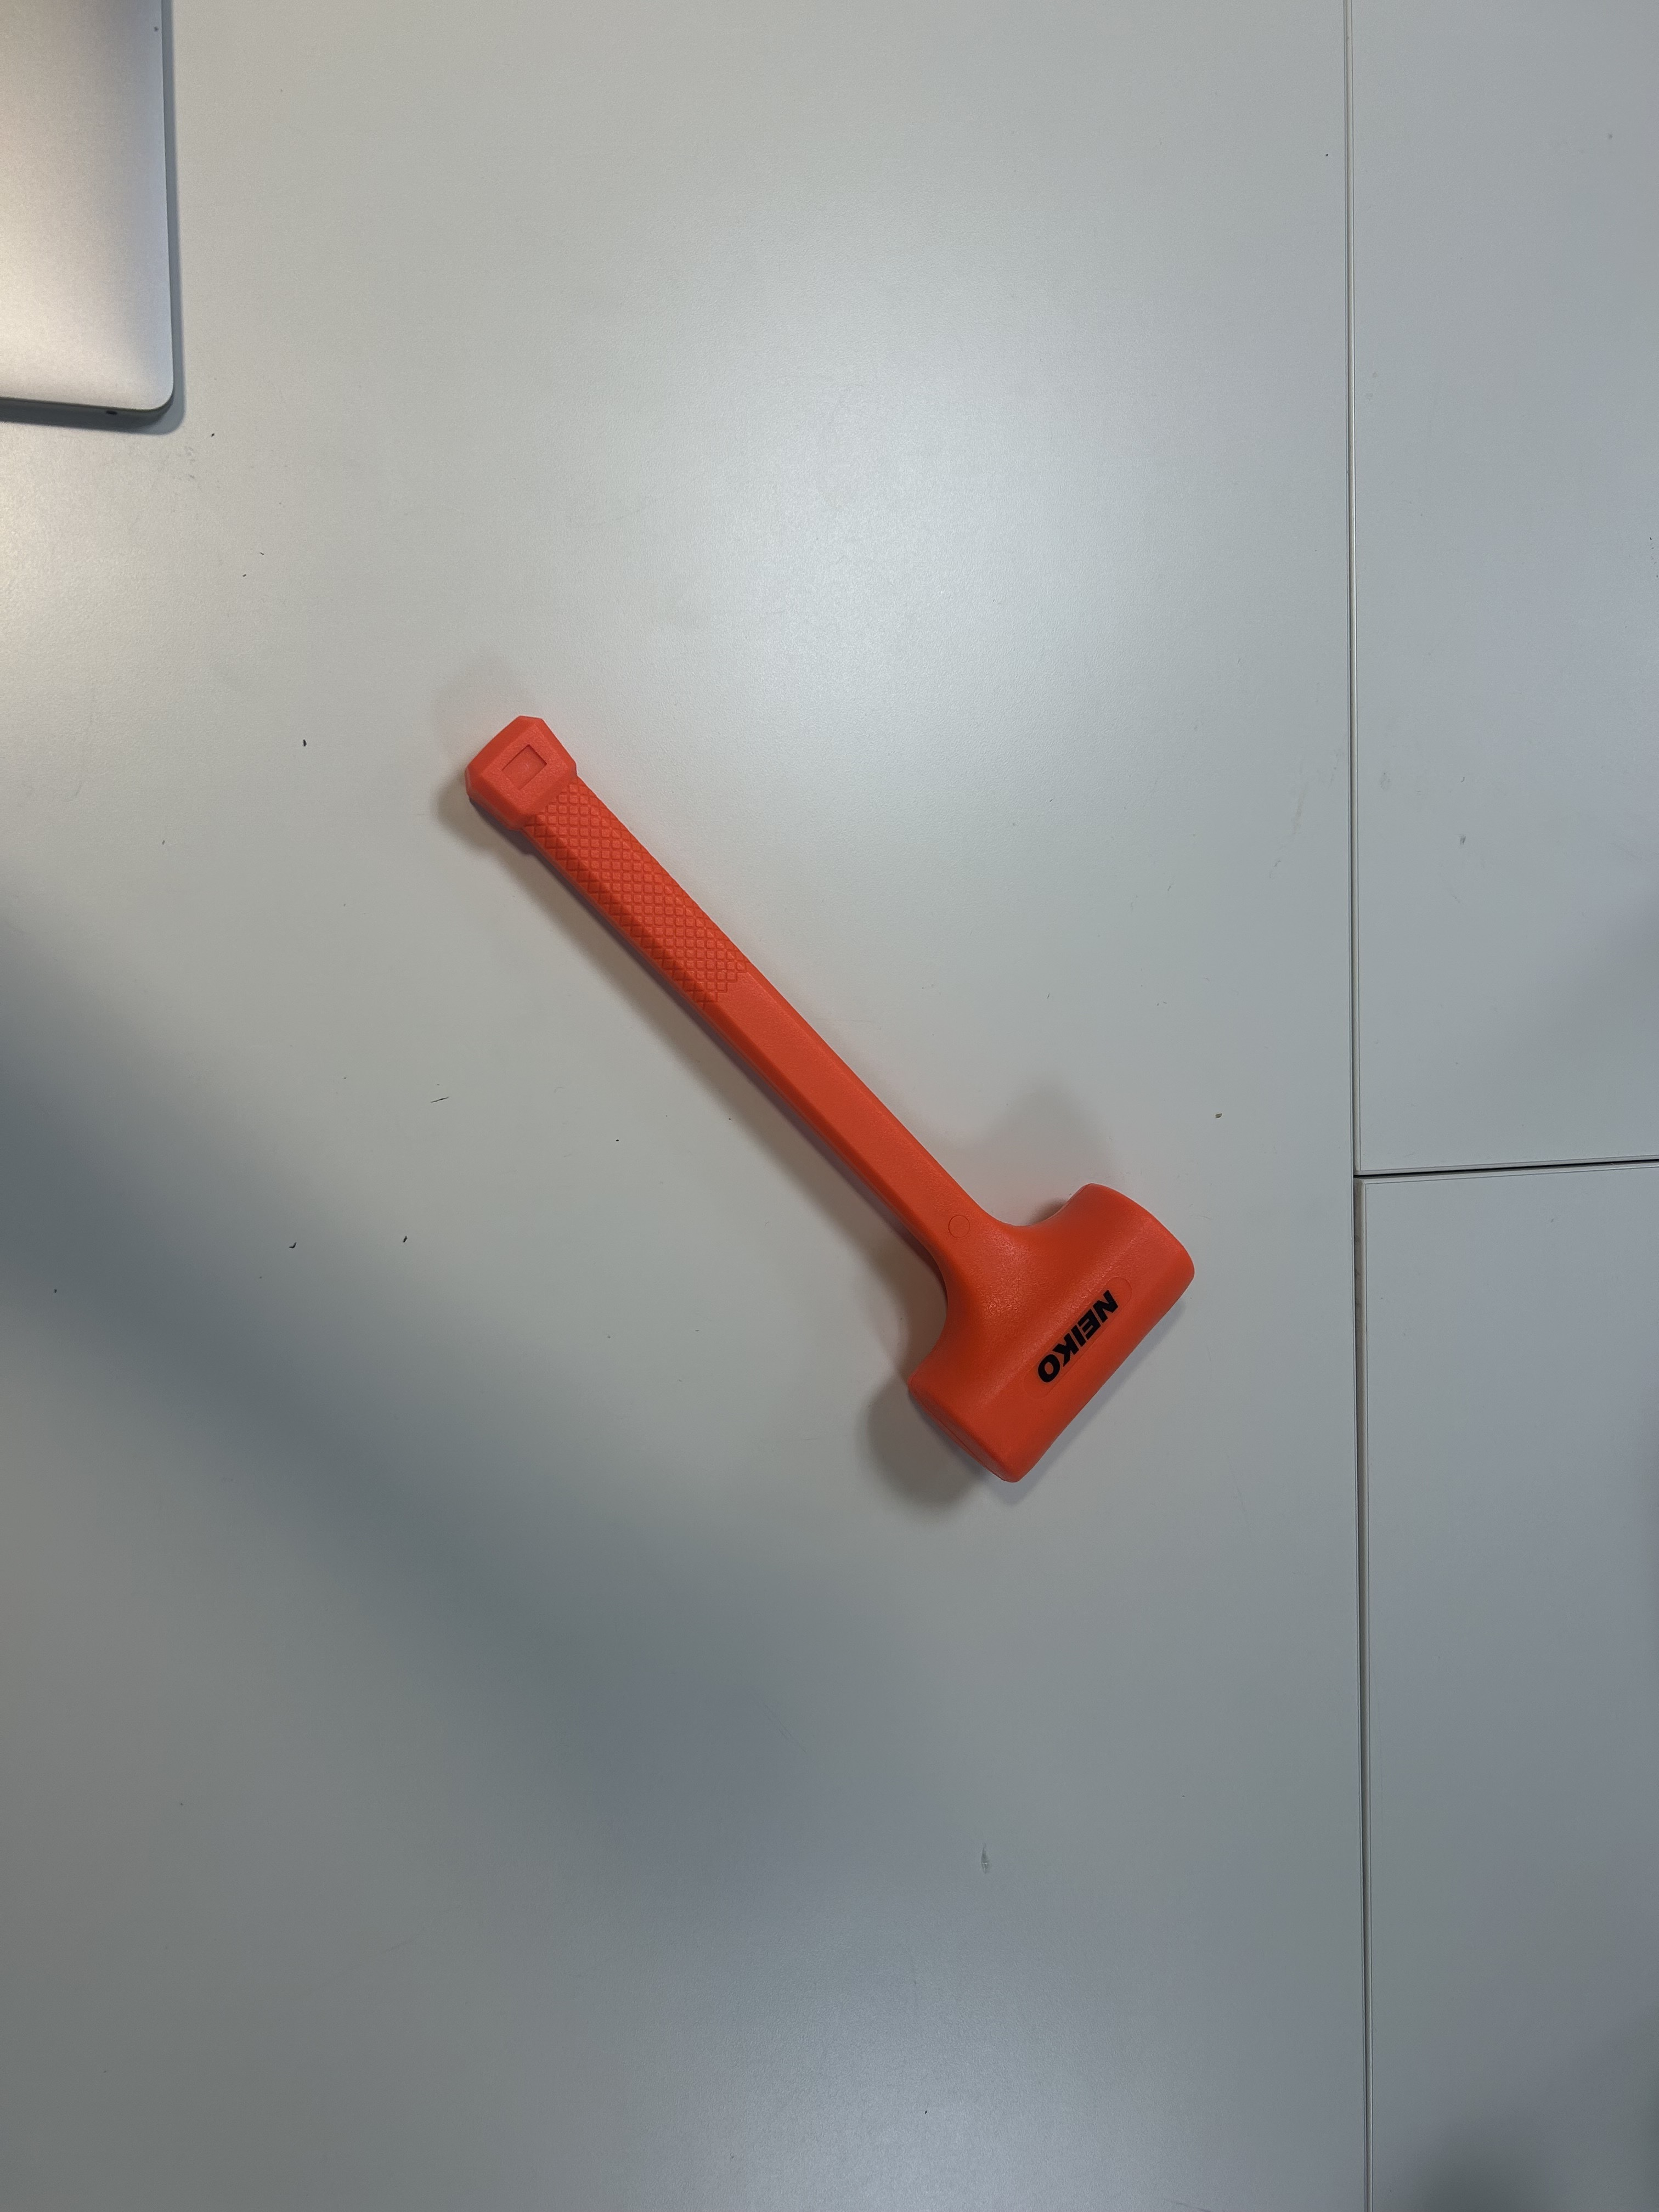Hammer: (415, 674, 1209, 1515)
